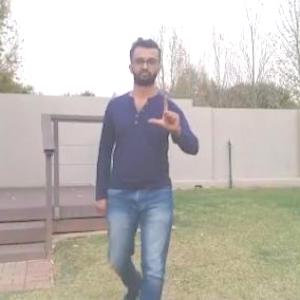land_hand: (146, 88, 185, 137)
